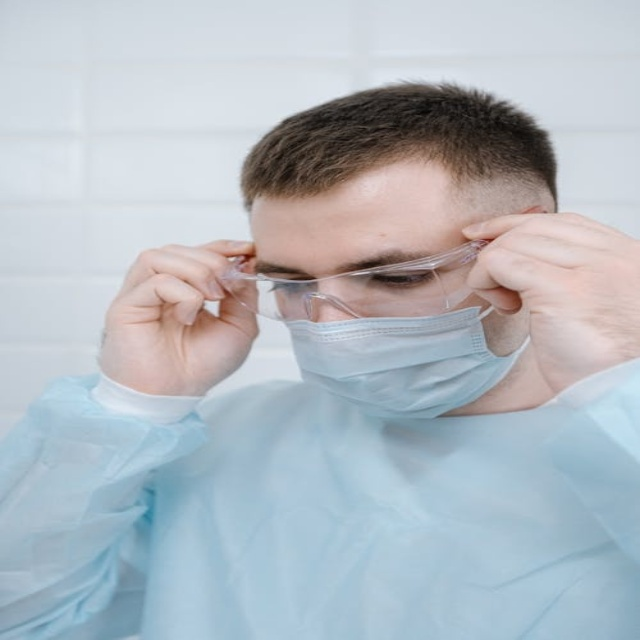Gafas: (216, 228, 505, 325)
Mascara: (261, 285, 530, 420)
Sin_guantes: (451, 206, 637, 400), (98, 236, 263, 407)
